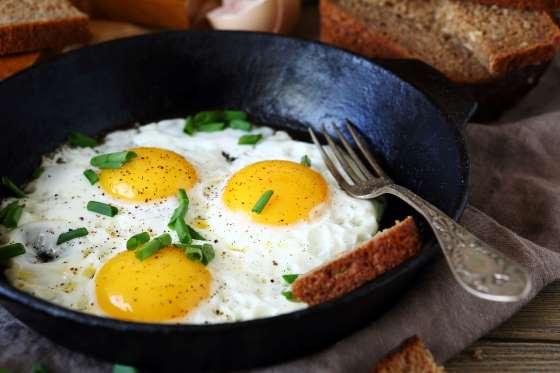fried egg: (71, 221, 248, 325), (213, 125, 351, 257), (48, 120, 212, 226)
